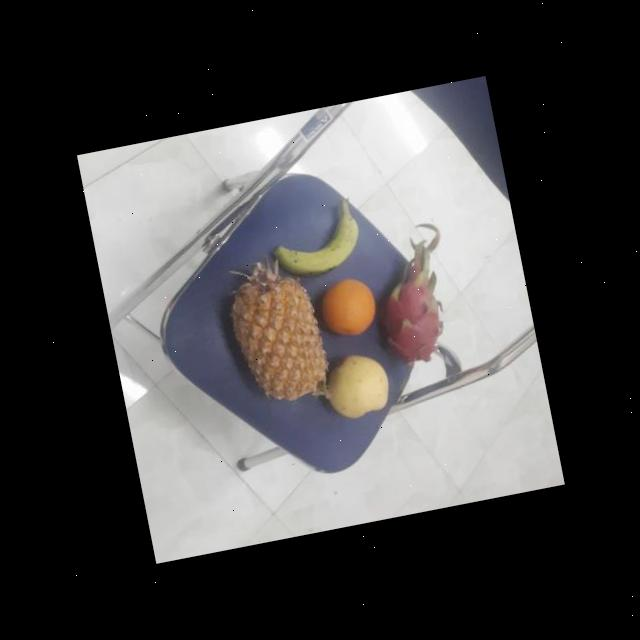banana: (268, 209, 368, 283)
orange: (311, 271, 380, 345)
pear: (319, 346, 395, 426)
pineapple: (222, 264, 330, 404)
pitaya: (369, 263, 448, 369)
